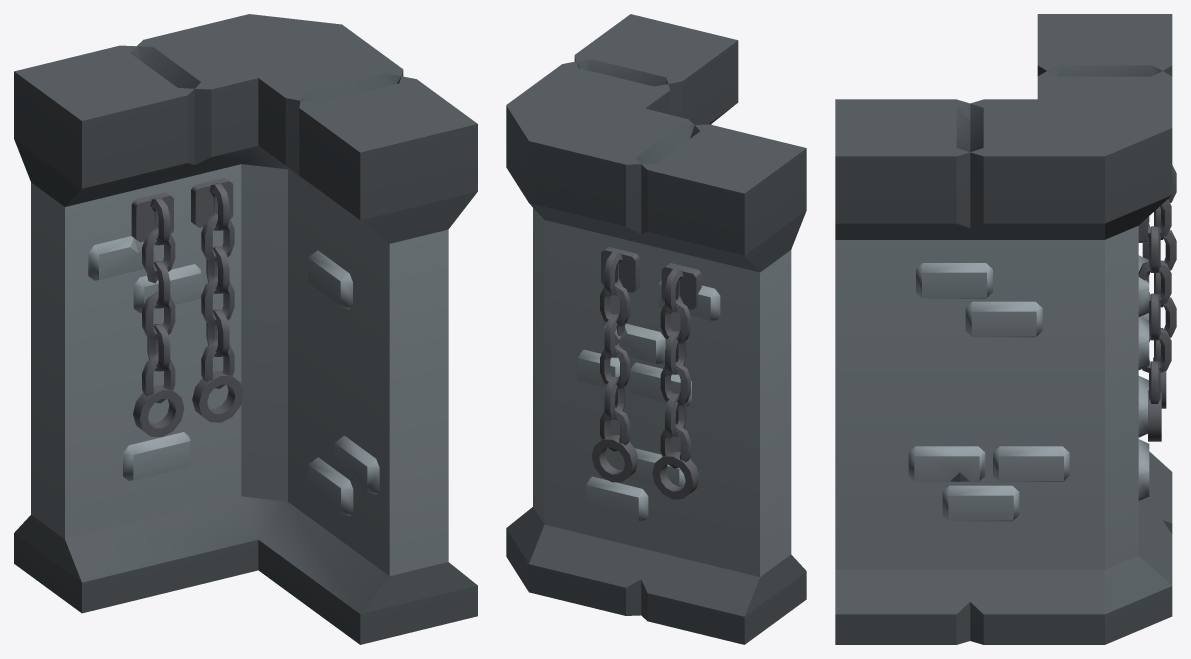
The model's file is wall_prison_corner_A.glb.
The picture shows the model from 3 angles, left to right: view 1: azimuth 30°, elevation 25°; view 2: azimuth 150°, elevation 25°; view 3: azimuth 270°, elevation 25°; orthographic projection. The views are drawn at different scales.
Parts seen in each view (by area): view 1: Item; view 2: Item; view 3: Item.
Boxes of the visible parts, x1=… form: Item: x1=14, y1=14, x2=477, y2=644; Item: x1=506, y1=14, x2=806, y2=644; Item: x1=835, y1=14, x2=1176, y2=644.
Size of the model in its own units: 2.5 by 4 by 2.53.
Materials: 2 (2 with a texture image).
